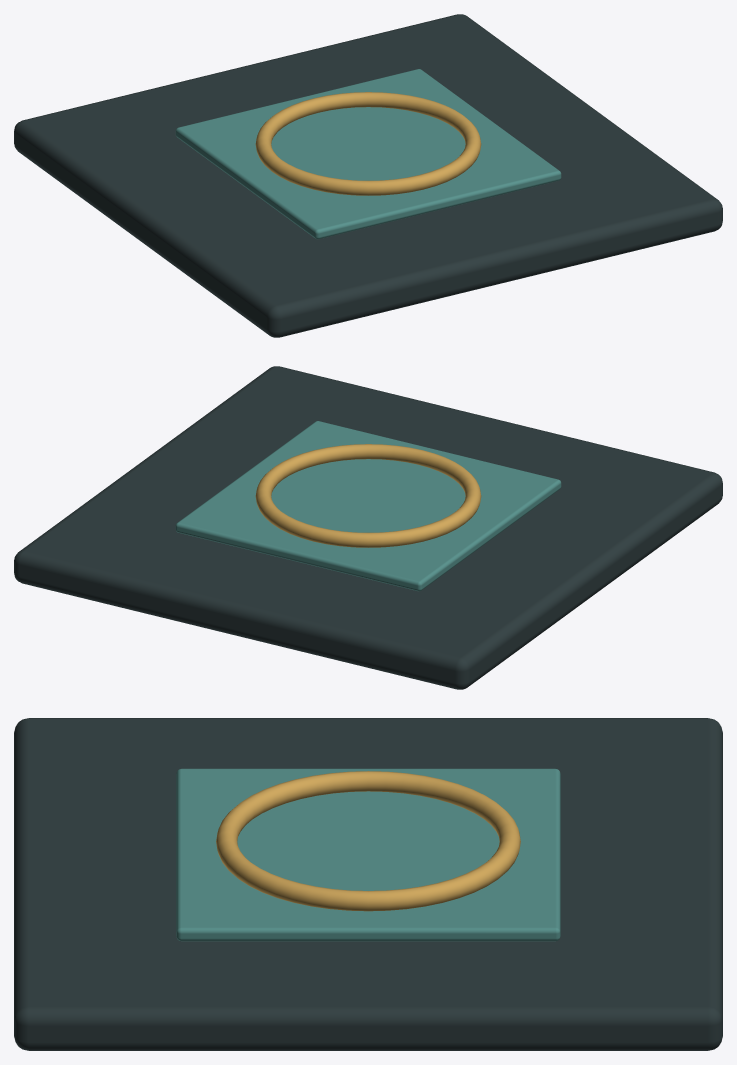
File: pressure-pad.glb
3 views of the same model, one above another, from view 1: azimuth 30°, elevation 25°; view 2: azimuth 150°, elevation 25°; view 3: azimuth 270°, elevation 25° (orthographic). The views are drawn at different scales.
Visible parts, largest first — view 1: pressure-pad; view 2: pressure-pad; view 3: pressure-pad.
Part boxes in pixels (x1,y1,x2,y2): pressure-pad: [14, 14, 722, 337]; pressure-pad: [14, 366, 722, 689]; pressure-pad: [14, 718, 722, 1050].
Size of the model in its own units: 1.2 by 0.138 by 1.2.
